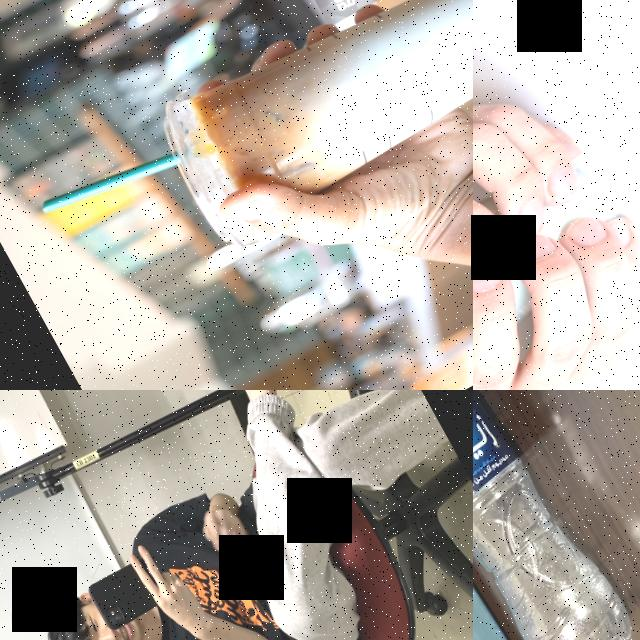bottle: (473, 390, 640, 640)
cup: (145, 0, 473, 261), (473, 113, 640, 390)
